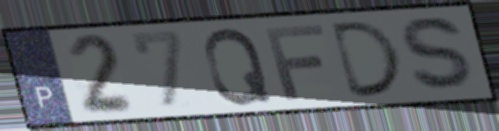2: (65, 32, 137, 119)
7: (126, 27, 194, 113)
D: (328, 18, 408, 101)
F: (261, 22, 329, 103)
Q: (201, 25, 276, 108)
S: (397, 14, 483, 95)
